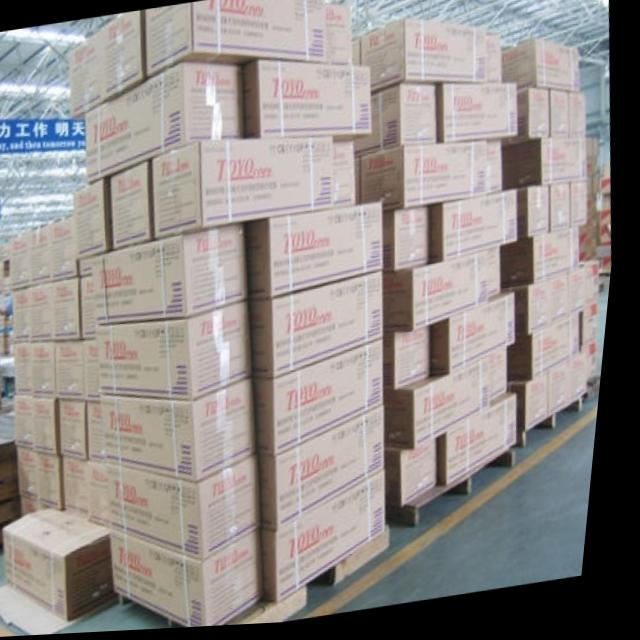box: (86, 63, 247, 185), (154, 138, 337, 241), (270, 475, 398, 609), (114, 455, 271, 562), (265, 407, 396, 535), (103, 300, 261, 403), (109, 381, 265, 484), (97, 226, 254, 327), (259, 343, 393, 459), (121, 530, 274, 630), (253, 274, 391, 382), (141, 0, 326, 80), (250, 203, 389, 304), (12, 507, 128, 626), (394, 354, 516, 455), (242, 60, 375, 147), (391, 250, 507, 337), (361, 20, 489, 96), (362, 144, 491, 215), (445, 396, 528, 492), (436, 297, 523, 381), (433, 192, 523, 267), (358, 87, 440, 160), (436, 85, 522, 147), (512, 319, 586, 386), (508, 232, 587, 294), (102, 11, 149, 105), (505, 145, 592, 194), (506, 44, 583, 98), (112, 162, 157, 250), (394, 444, 448, 513), (77, 180, 117, 263), (69, 28, 104, 119), (388, 210, 435, 277), (392, 330, 438, 395), (505, 94, 551, 154), (516, 378, 557, 439), (513, 288, 557, 343), (60, 341, 92, 401), (65, 401, 97, 461), (57, 279, 87, 342), (42, 451, 74, 510), (69, 456, 98, 520), (56, 217, 82, 283), (522, 191, 554, 244), (326, 8, 354, 66), (336, 148, 360, 214), (97, 464, 121, 528), (38, 340, 64, 399), (36, 283, 60, 345), (41, 399, 68, 454), (554, 367, 580, 421), (35, 226, 57, 288), (88, 339, 109, 403), (92, 402, 114, 463), (14, 234, 36, 293), (85, 277, 105, 341), (25, 449, 48, 502), (21, 395, 42, 450), (553, 188, 576, 238), (20, 342, 41, 396), (18, 288, 38, 344), (554, 280, 575, 333), (551, 96, 572, 144), (577, 359, 597, 409), (573, 274, 592, 322), (587, 266, 606, 314), (586, 312, 606, 354), (572, 98, 590, 144), (574, 187, 592, 231), (588, 348, 606, 391)
